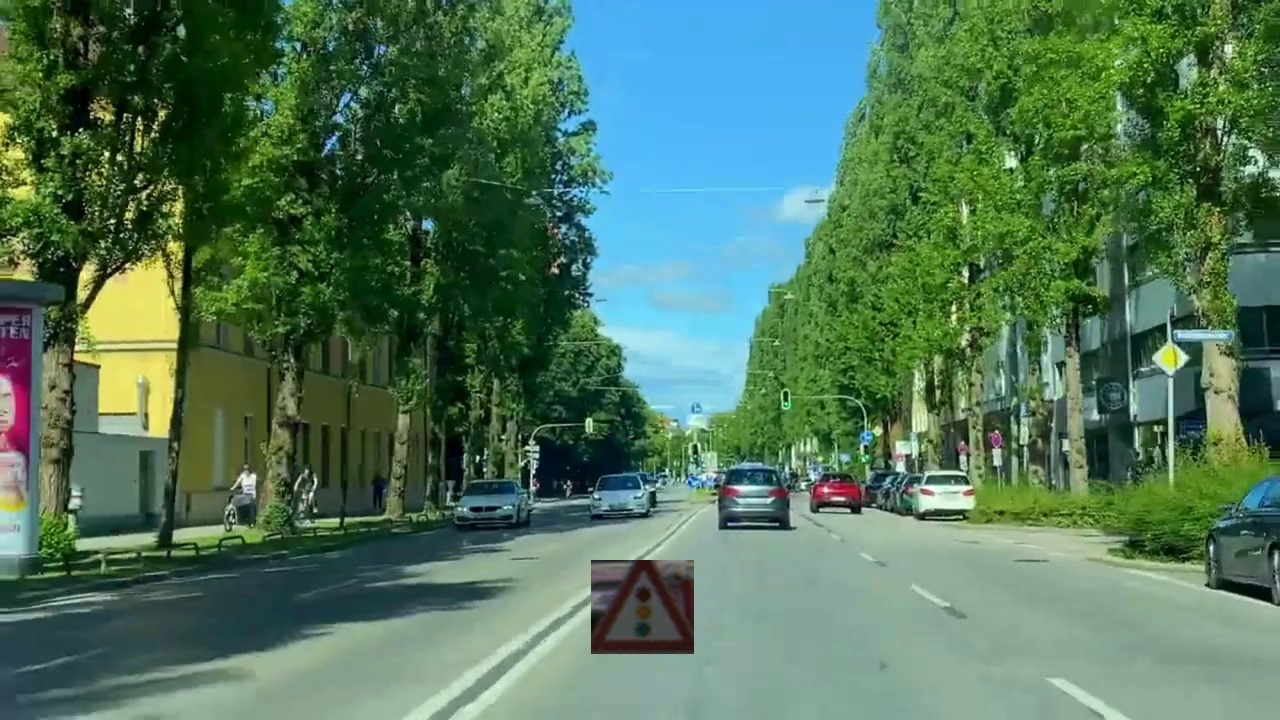Signals: (591, 560, 694, 654)
